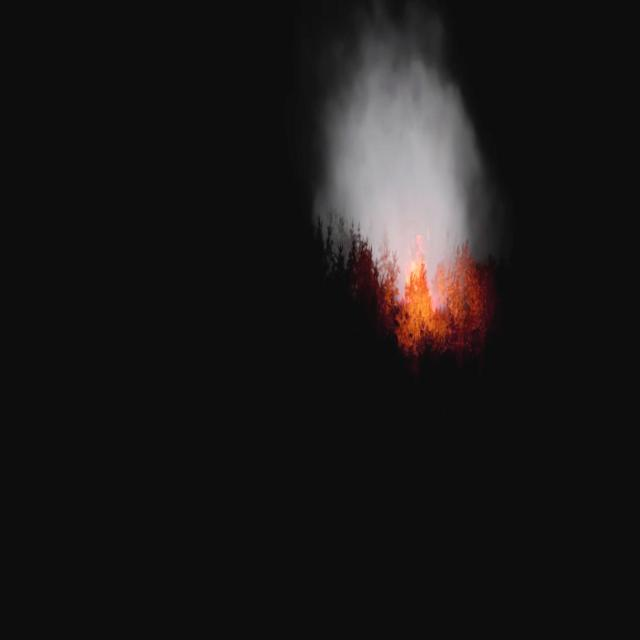fire: (400, 228, 434, 294)
smoke: (304, 21, 490, 306)
